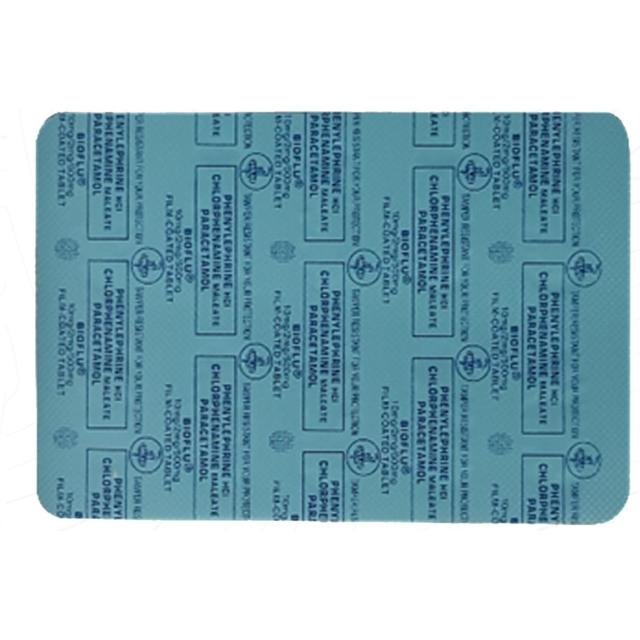blister: (32, 100, 635, 526)
